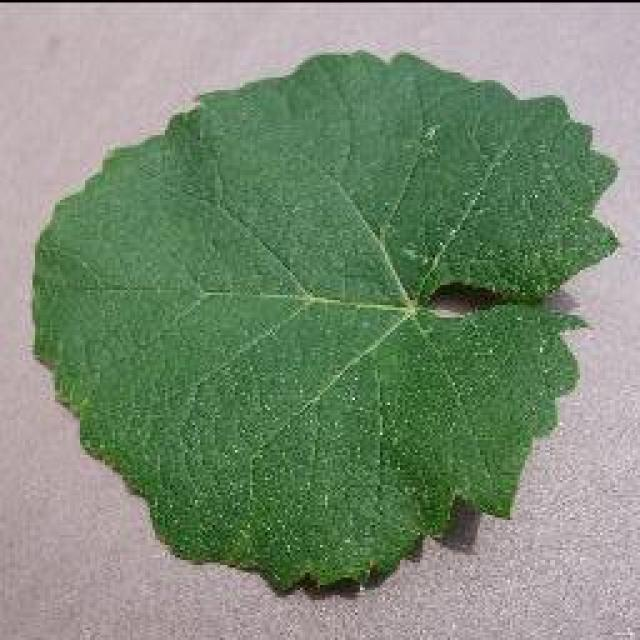Grape___healthy: (28, 47, 624, 609)
